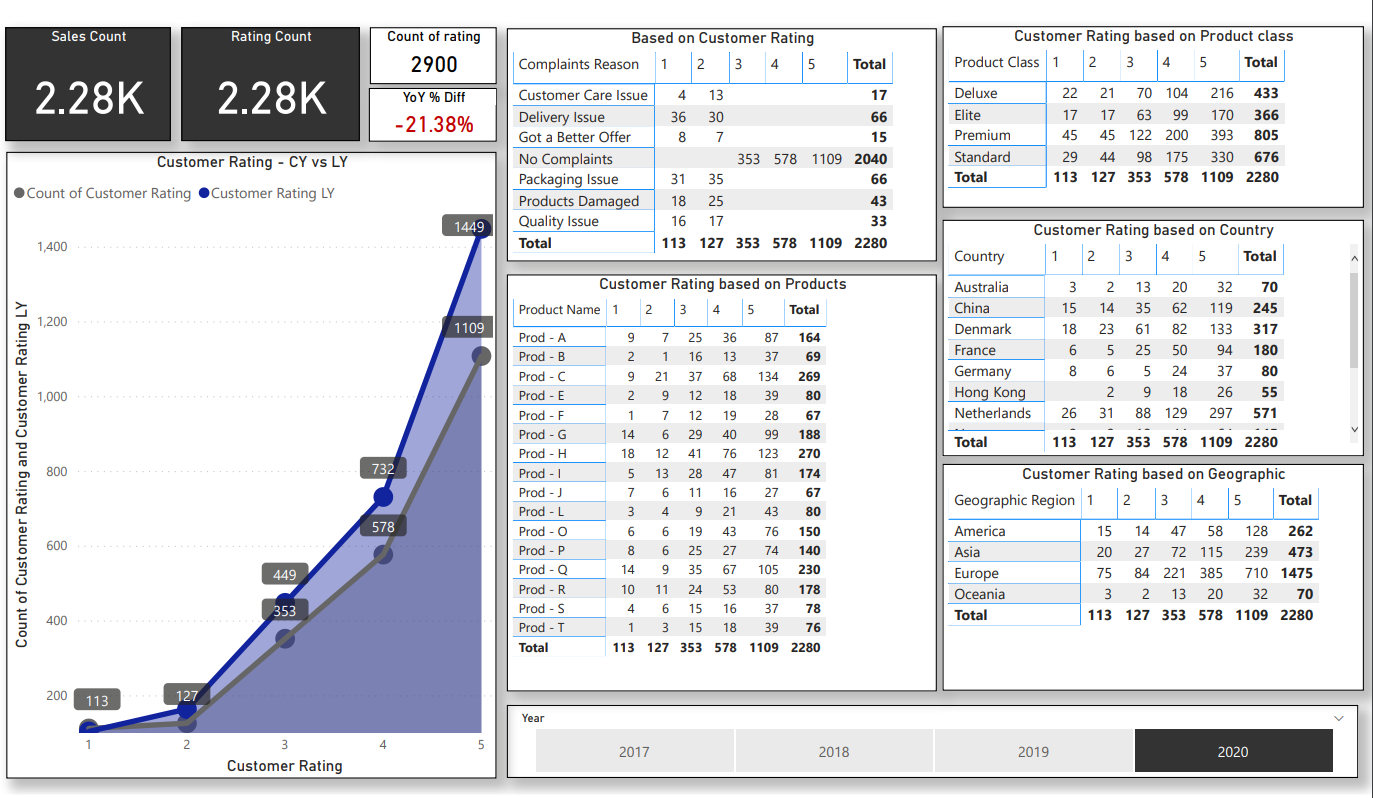

This screenshot's page, from the dashboard's own definition file:
{"tool":"powerbi","page":{"name":"✨  Customer Feedback","canvas":[1280,720],"ordinal":3},"visuals":[{"type":"shape","box":[0,0,447.7,107],"z":500},{"type":"slicer","fields":{"Values":["Calendar.Year"]},"box":[474.4,0,796.5,60.5],"z":1000},{"type":"card","title":"Sales Count","fields":{"Values":["CountNonNull(Sales Data.Sales Id)"]},"box":[0,0,153.5,107],"z":2000},{"type":"card","title":"Rating Count","fields":{"Values":["CountNonNull(Sales Data.Customer Rating)"]},"box":[153.5,0,165.1,107],"z":3000},{"type":"card","title":"Count of rating","fields":{"Values":["All Measures.Customer Rating LY"]},"box":[317.4,0,130.2,53.5],"z":4000},{"type":"card","title":"YoY % Diff","fields":{"Values":["All Measures.Customer Rating % Diff"]},"box":[317.4,57,130.2,50],"z":5000},{"type":"areaChart","title":"Customer Rating - CY vs LY","fields":{"Category":["Sales Data.Customer Rating"],"Y":["CountNonNull(Sales Data.Customer Rating)","All Measures.Customer Rating LY"]},"box":[0,115.1,457,576.8],"z":6000},{"type":"pivotTable","title":"Based on Customer Rating","fields":{"Rows":["Sales Data.Complaints Reason"],"Columns":["Sales Data.Customer Rating"],"Values":["CountNonNull(Sales Data.Customer Rating)"]},"box":[877.9,260.5,391.9,253.5],"z":8000},{"type":"pivotTable","title":"Customer Rating based on Products","fields":{"Columns":["Sales Data.Customer Rating"],"Values":["CountNonNull(Sales Data.Customer Rating)"],"Rows":["Products Details.Product Name"]},"box":[474.4,338.4,400,369.8],"z":9000},{"type":"pivotTable","title":"Customer Rating based on Product class","fields":{"Columns":["Sales Data.Customer Rating"],"Values":["CountNonNull(Sales Data.Customer Rating)"],"Rows":["Products Details.Product Class"]},"box":[877.9,73.3,390.7,177.9],"z":10000},{"type":"pivotTable","title":"Customer Rating based on Country","fields":{"Columns":["Sales Data.Customer Rating"],"Values":["CountNonNull(Sales Data.Customer Rating)"],"Rows":["Sales Data.Country"]},"box":[474.5,73.4,393.8,256.8],"z":11000},{"type":"pivotTable","title":"Customer Rating based on Geographic","fields":{"Columns":["Sales Data.Customer Rating"],"Values":["CountNonNull(Sales Data.Customer Rating)"],"Rows":["Location Details.Geographic Region"]},"box":[878,523.4,390.1,184.7],"z":12000}]}

Visuals, with their boxes in screenshot pixels (x1, y1, x2, y2):
shape: bbox=[14, 21, 488, 135]
slicer - Calendar.Year: bbox=[516, 21, 1359, 85]
"Sales Count" card: bbox=[14, 21, 177, 135]
"Rating Count" card: bbox=[177, 21, 351, 135]
"Count of rating" card: bbox=[350, 21, 488, 78]
"YoY % Diff" card: bbox=[350, 82, 488, 135]
"Customer Rating - CY vs LY" areaChart: bbox=[14, 143, 498, 753]
"Based on Customer Rating" pivotTable: bbox=[943, 297, 1358, 565]
"Customer Rating based on Products" pivotTable: bbox=[516, 379, 939, 771]
"Customer Rating based on Product class" pivotTable: bbox=[943, 99, 1356, 287]
"Customer Rating based on Country" pivotTable: bbox=[516, 99, 933, 371]
"Customer Rating based on Geographic" pivotTable: bbox=[943, 575, 1356, 770]
